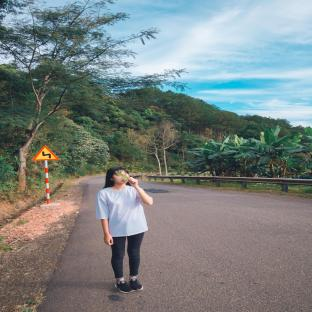Human: (95, 167, 153, 293)
